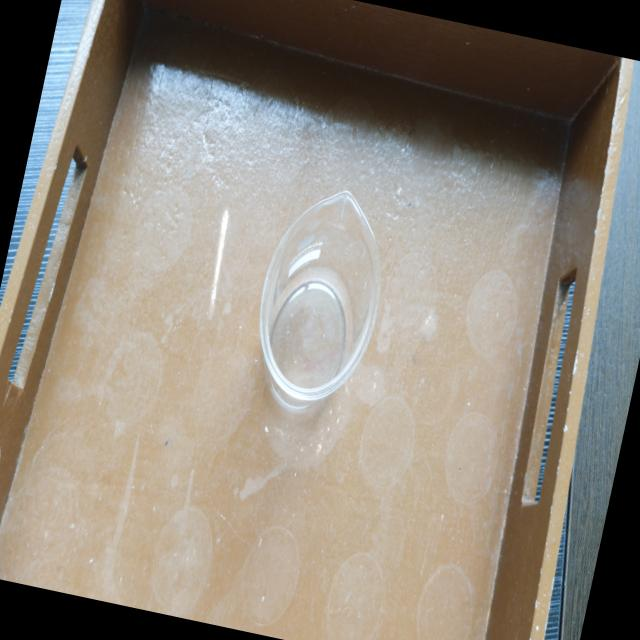beaker: (233, 167, 406, 434)
